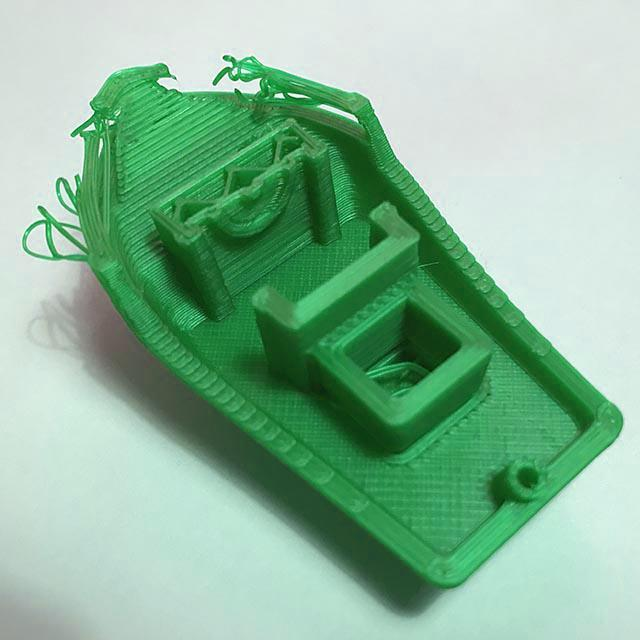Spaghetti: (17, 170, 100, 266), (206, 50, 300, 116)
